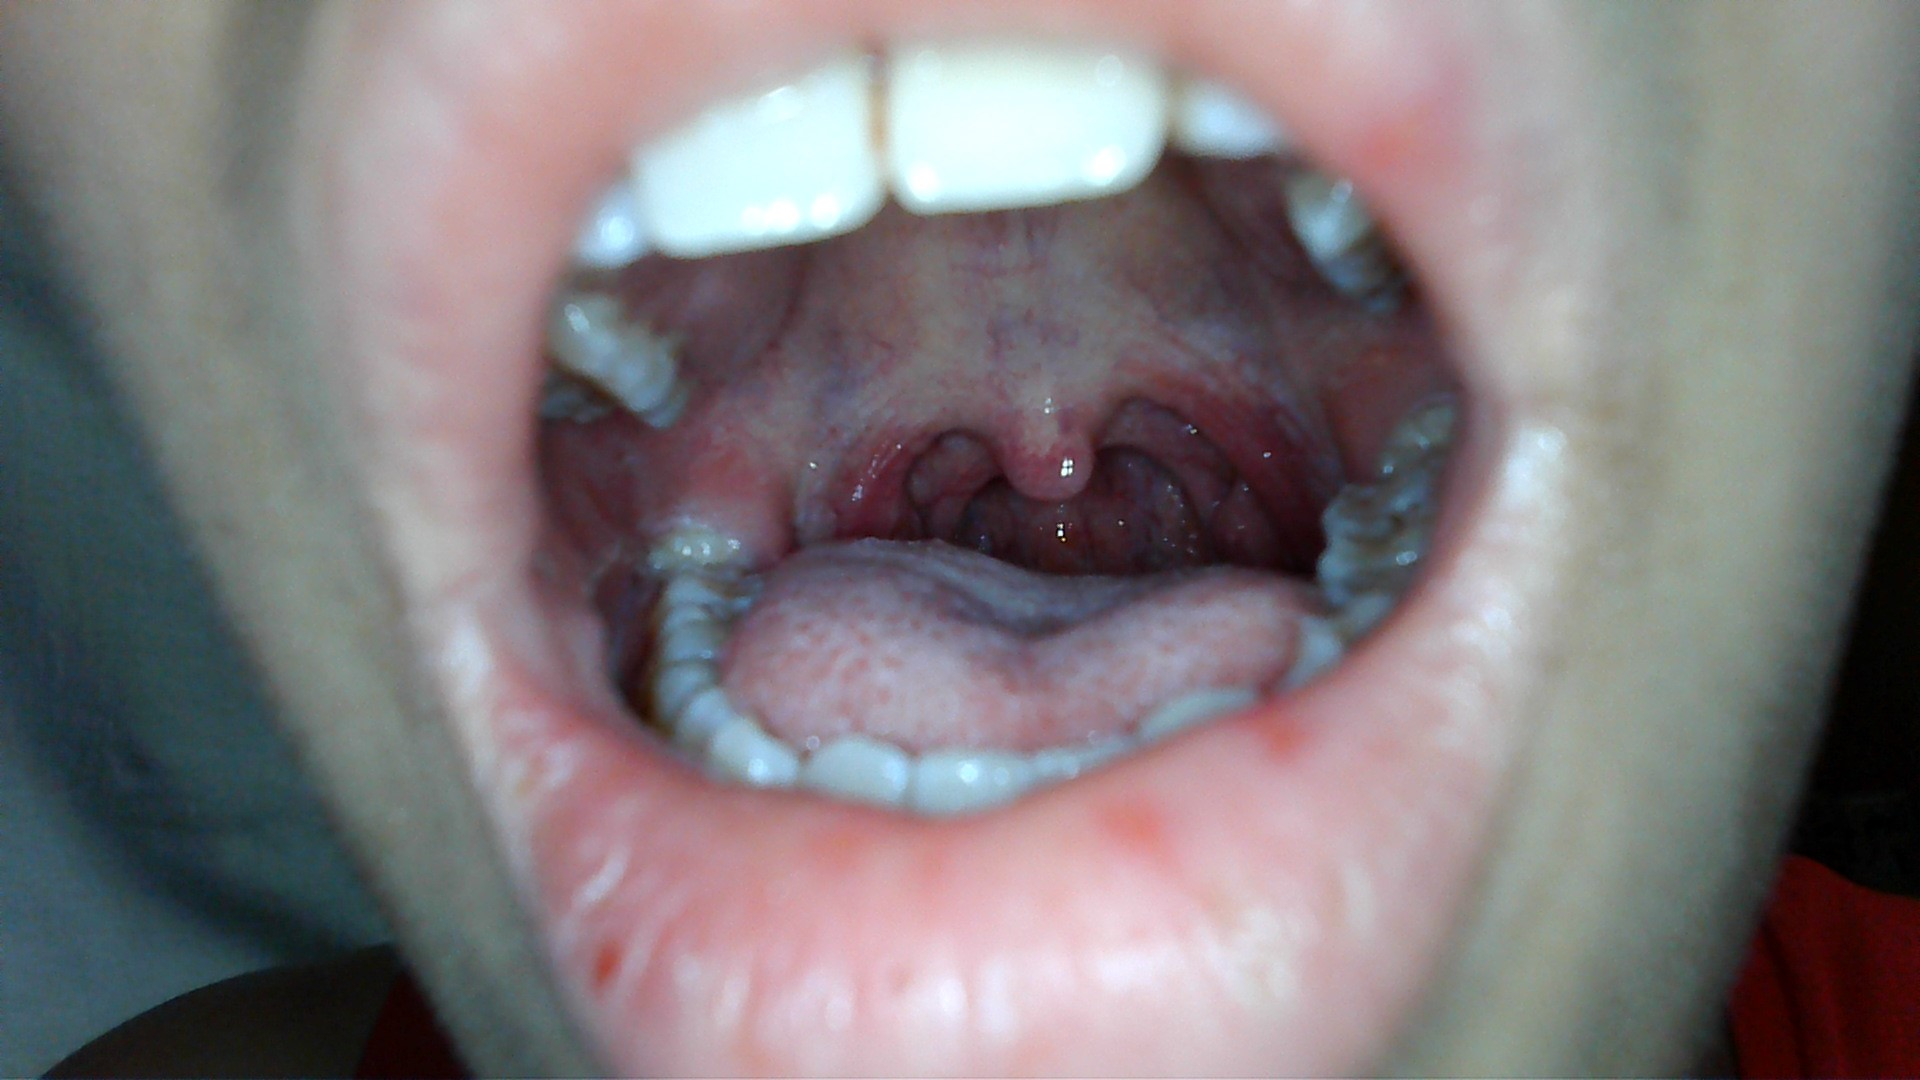throat: (1158, 348, 1305, 541), (837, 372, 967, 527)
